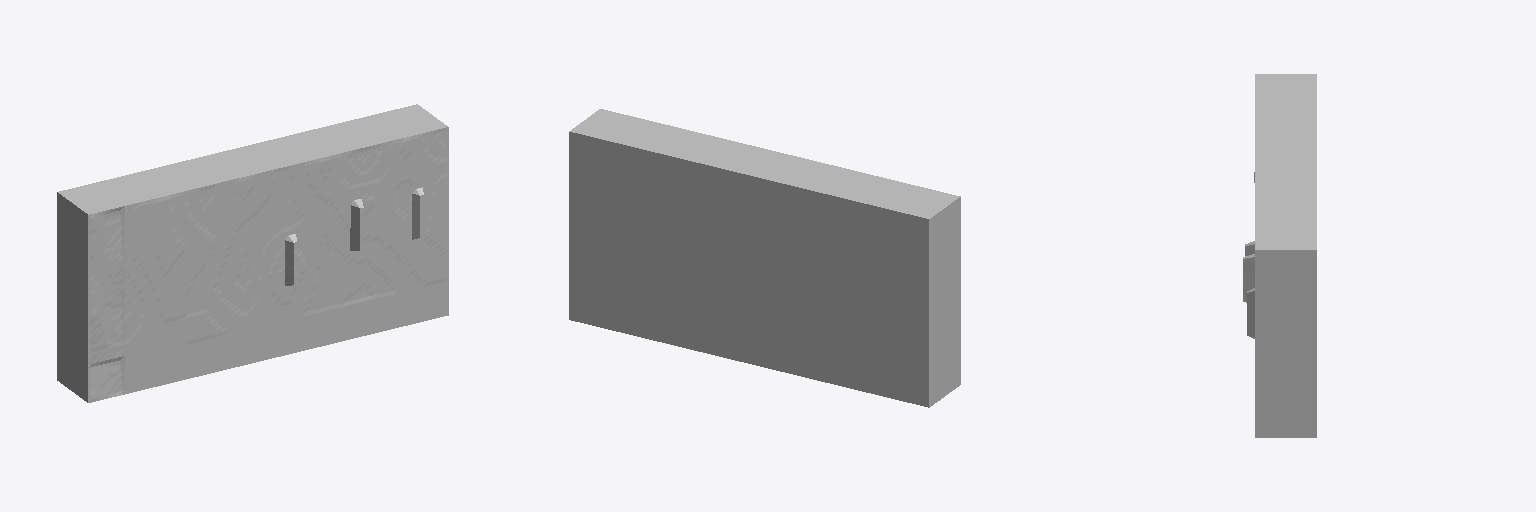
Rendered from rectangular_prism_bumps_5_3.obj.
3 renders of one model, left to right at view 1: azimuth 30°, elevation 25°; view 2: azimuth 150°, elevation 25°; view 3: azimuth 270°, elevation 25°, orthographic.
Size of the model in its own units: 10 by 5 by 1.79.